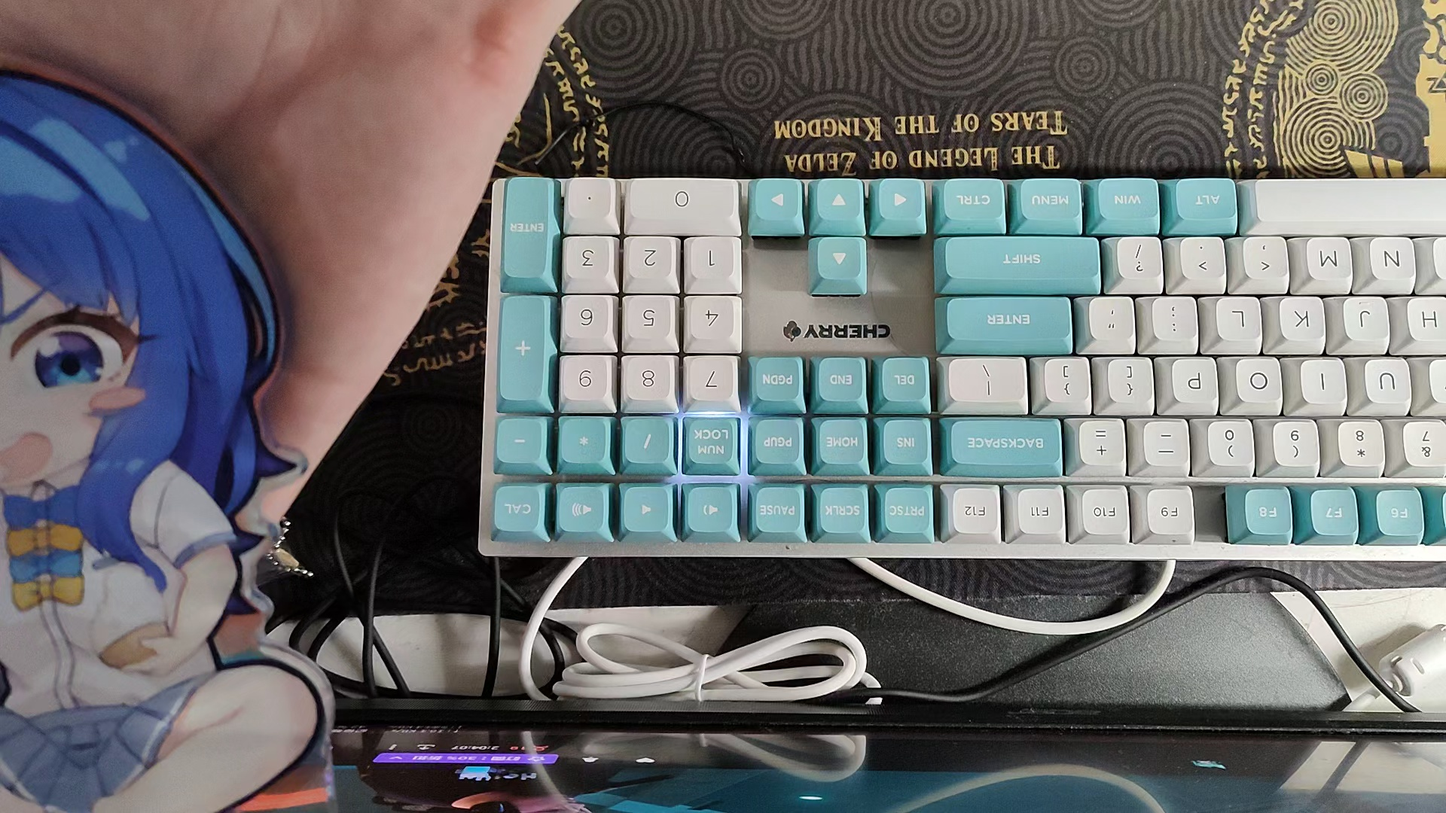Yanami-anna: (0, 85, 340, 812)
